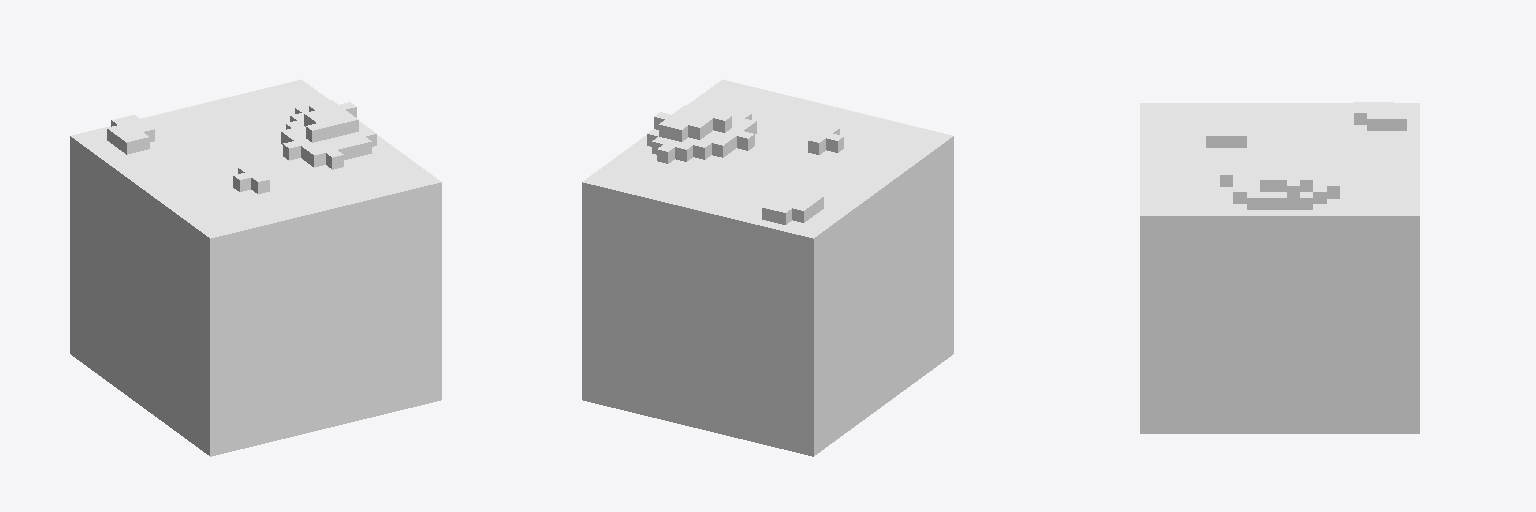
File: wall_side.obj
3 views of the same model, side by side, from view 1: azimuth 30°, elevation 25°; view 2: azimuth 150°, elevation 25°; view 3: azimuth 270°, elevation 25° (orthographic).
Size of the model in its own units: 20 by 20 by 21.